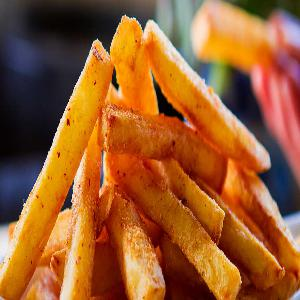fries_350cal: (11, 27, 289, 300)
